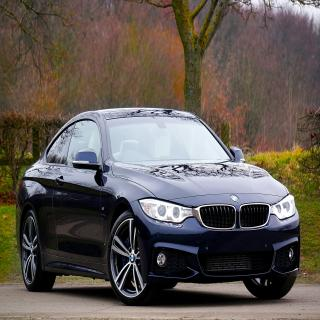Normal_vehicle: (16, 110, 302, 309)
